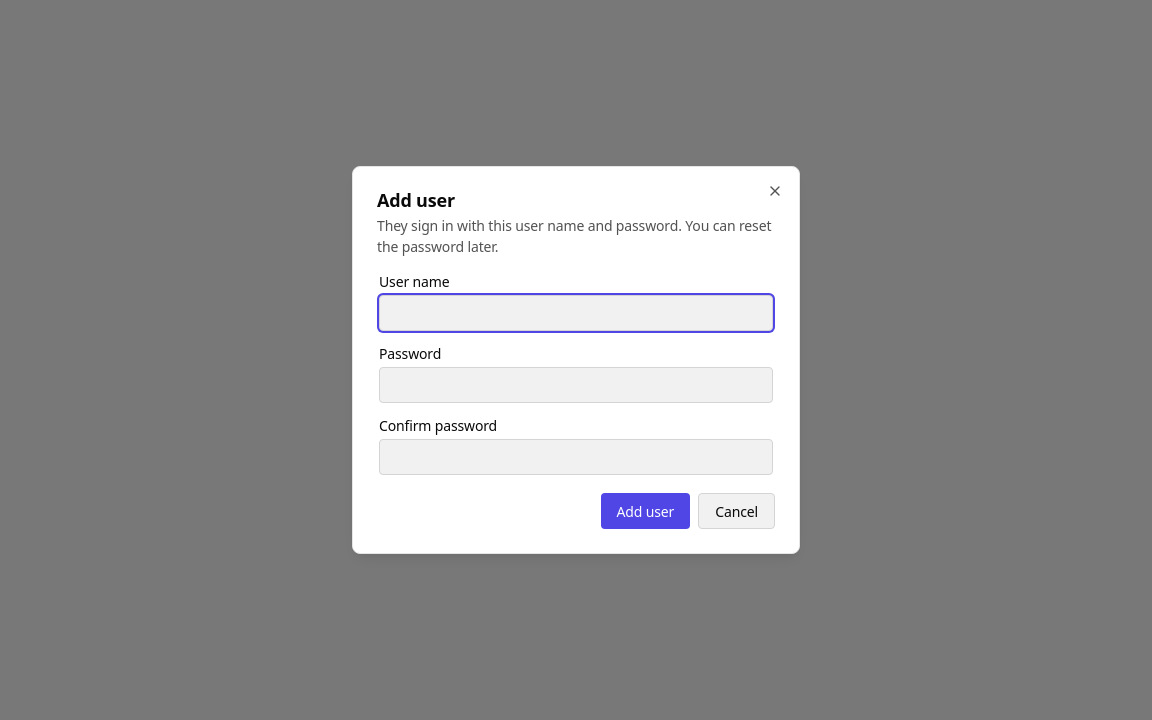
Test: CreateUserDialog › lets go of the mismatch once Confirm password is edited
This screenshot has width=1152, height=720.
Type " ivan " into the field labelled "User name" at (576, 313), box [379,295,773,331]
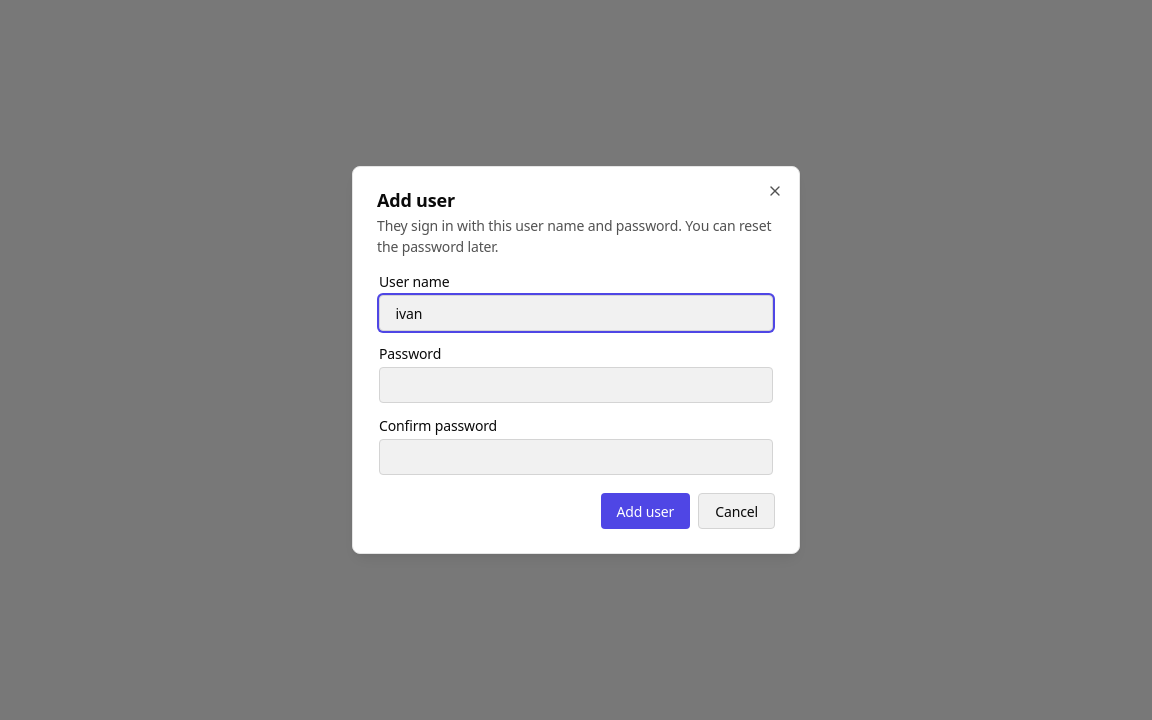
Type "correct horse battery" into the password field labelled "Password" at (576, 385), box [379,367,773,403]
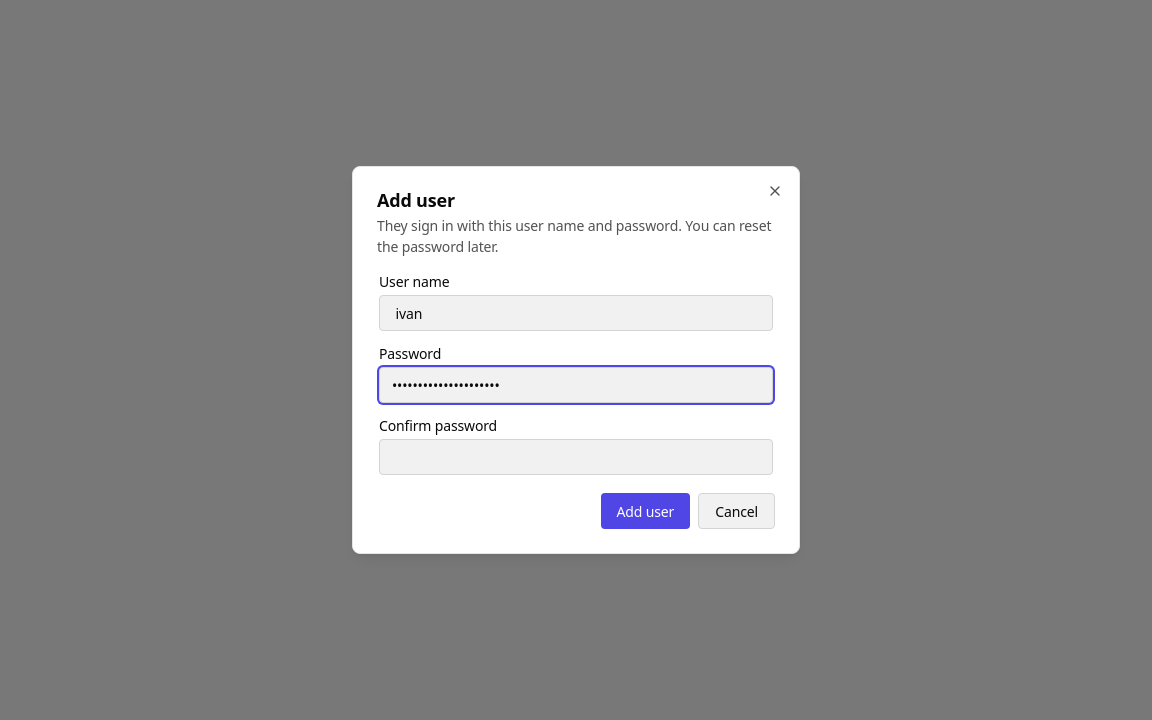
Type "correct horse batery" into the password field labelled "Confirm password" at (576, 457), box [379,439,773,475]
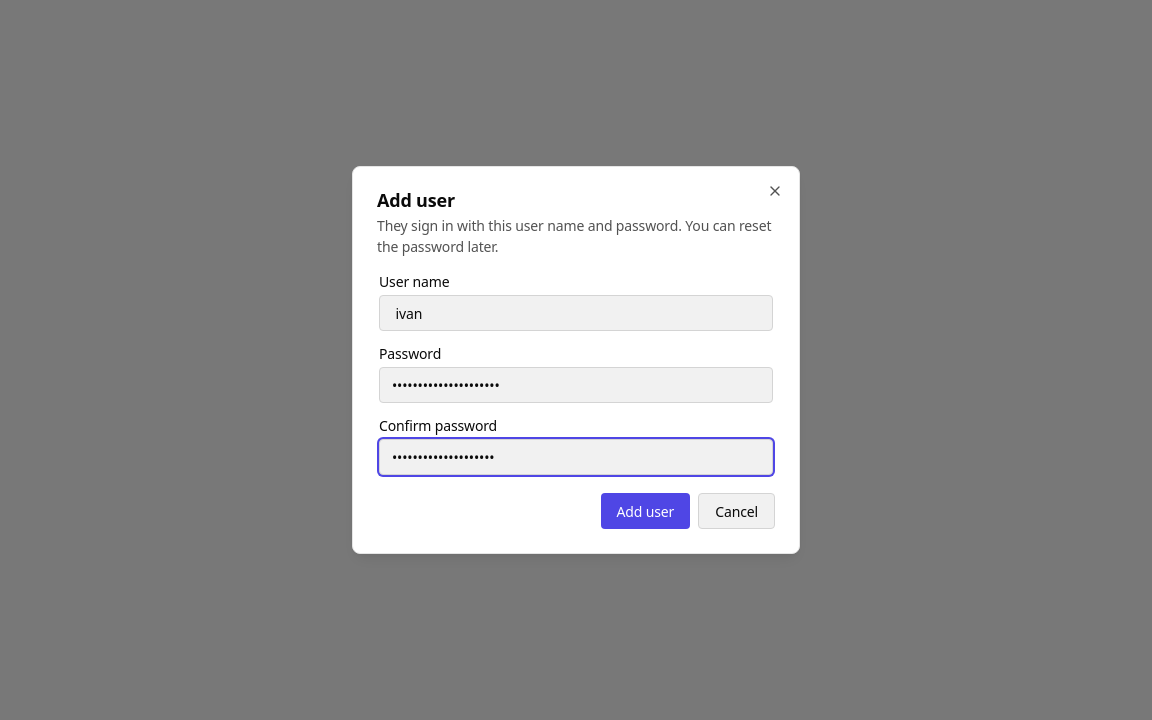
Click the button "Add user" at (645, 511), box [601,493,690,529]
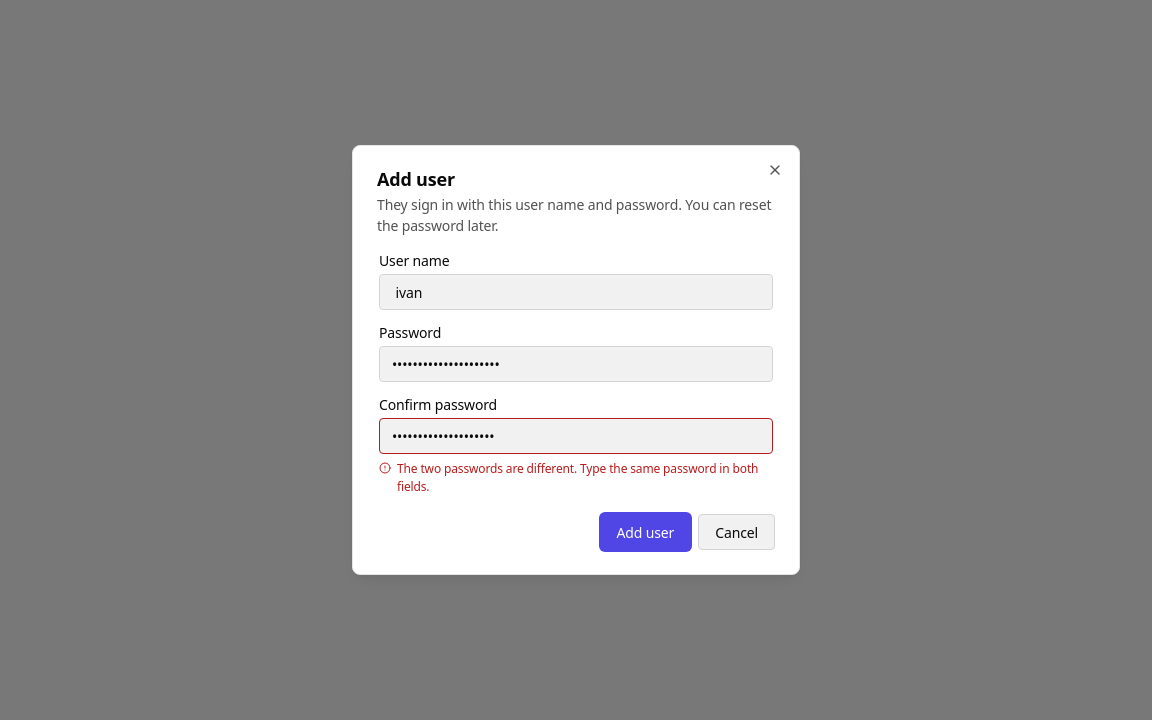
Type "y" into the password field labelled "Confirm password" at (576, 436), box [379,418,773,454]
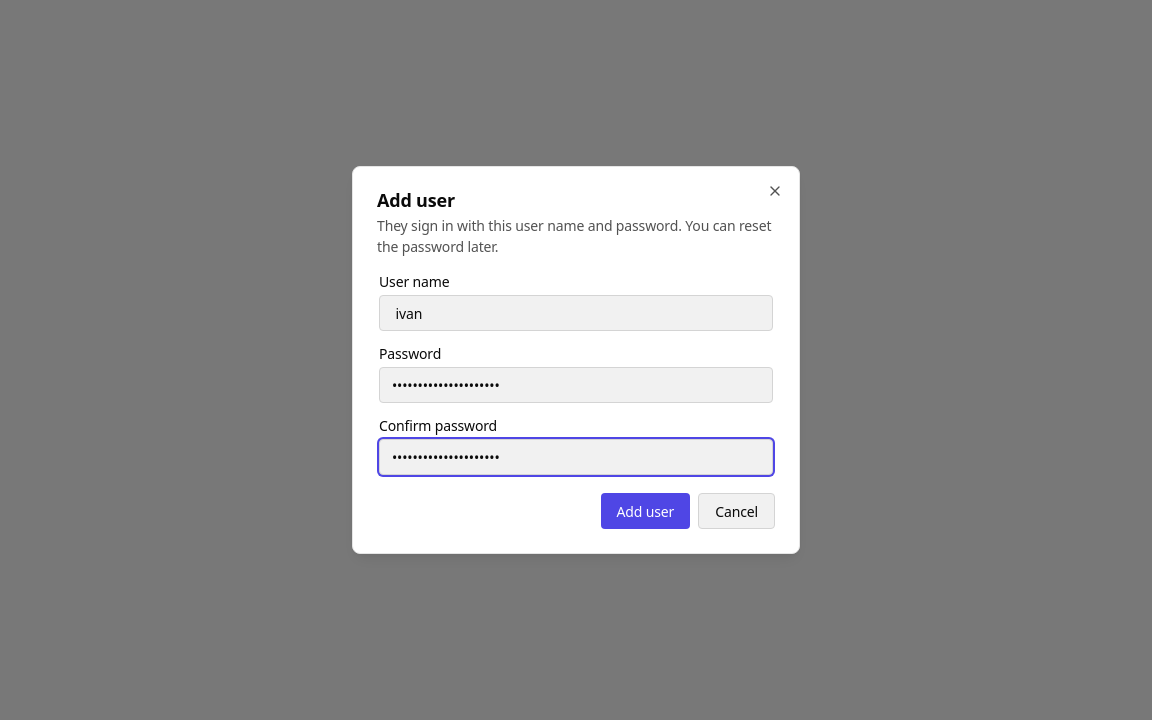
Expected: the message "The two passwords are different. Type the same password in both fields." is gone
